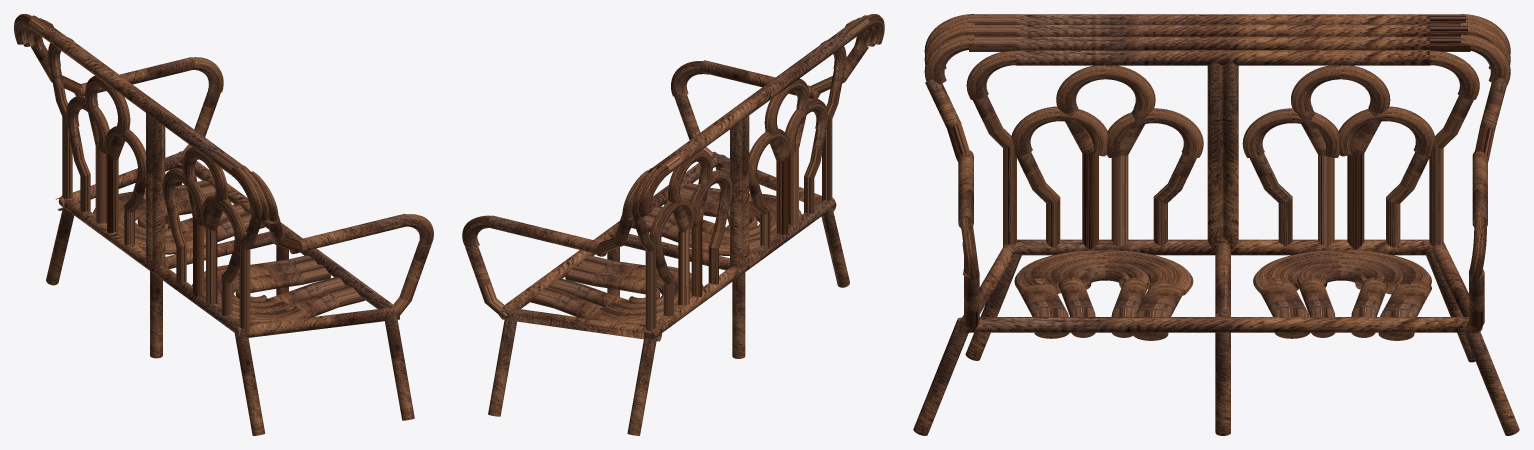
File: chaise.glb
3 renders of one model, left to right at view 1: azimuth 30°, elevation 25°; view 2: azimuth 150°, elevation 25°; view 3: azimuth 270°, elevation 25°, orthographic. The views are drawn at different scales.
Parts seen in each view (by area): view 1: Cylindre.007, Cylindre, Cylindre.008, Cylindre.003, Cylindre.001, Cylindre.002, Cylindre.005, Cylindre.004, Cylindre.012, Torus.001, Torus.002, Torus (+26 smaller); view 2: Cylindre.007, Cylindre, Cylindre.008, Cylindre.003, Cylindre.001, Cylindre.005, Cylindre.002, Cylindre.004, Cylindre.013, Torus.001, Torus.002, Torus (+25 smaller); view 3: Cylindre.007, Cylindre.004, Cylindre, Cylindre.001, Torus.001, Cylindre.008, Cylindre.002, Torus.012, Cylindre.005, Torus.002, Torus, Cylindre.009 (+31 smaller).
Boxes of the visible parts, x1=… form: Cylindre.007: x1=28, y1=15, x2=252, y2=175; Cylindre: x1=146, y1=113, x2=165, y2=269; Cylindre.008: x1=50, y1=66, x2=261, y2=334; Cylindre.003: x1=80, y1=57, x2=408, y2=253; Cylindre.001: x1=58, y1=195, x2=250, y2=339; Cylindre.002: x1=87, y1=105, x2=222, y2=304; Cylindre.005: x1=107, y1=127, x2=203, y2=296; Cylindre.004: x1=178, y1=151, x2=394, y2=308; Cylindre.012: x1=236, y1=307, x2=399, y2=338; Torus.001: x1=85, y1=75, x2=227, y2=201; Torus.002: x1=66, y1=96, x2=245, y2=252; Torus: x1=105, y1=126, x2=205, y2=225; Cylindre.007: x1=648, y1=15, x2=869, y2=173; Cylindre: x1=730, y1=115, x2=749, y2=270; Cylindre.008: x1=633, y1=69, x2=844, y2=335; Cylindre.003: x1=488, y1=60, x2=818, y2=253; Cylindre.001: x1=644, y1=197, x2=835, y2=340; Cylindre.005: x1=691, y1=129, x2=787, y2=297; Cylindre.002: x1=673, y1=108, x2=807, y2=305; Cylindre.004: x1=499, y1=153, x2=719, y2=319; Cylindre.013: x1=500, y1=307, x2=661, y2=341; Torus.001: x1=668, y1=78, x2=809, y2=203; Torus.002: x1=650, y1=98, x2=828, y2=253; Torus: x1=690, y1=128, x2=789, y2=227; Cylindre.007: x1=965, y1=14, x2=1470, y2=65; Cylindre.004: x1=971, y1=317, x2=1478, y2=332; Cylindre: x1=1207, y1=61, x2=1238, y2=249; Cylindre.001: x1=1004, y1=239, x2=1433, y2=255; Torus.001: x1=1056, y1=65, x2=1390, y2=113; Cylindre.008: x1=972, y1=95, x2=1473, y2=246; Cylindre.002: x1=1065, y1=109, x2=1380, y2=249; Torus.012: x1=1014, y1=250, x2=1431, y2=295; Cylindre.005: x1=1111, y1=108, x2=1334, y2=246; Torus.002: x1=1011, y1=106, x2=1434, y2=156; Torus: x1=1106, y1=108, x2=1339, y2=157; Cylindre.009: x1=1016, y1=152, x2=1429, y2=247.
Bounding box in the file's own units: 10.81 × 14.14 × 23.43.
2 materials, 2 textured.
